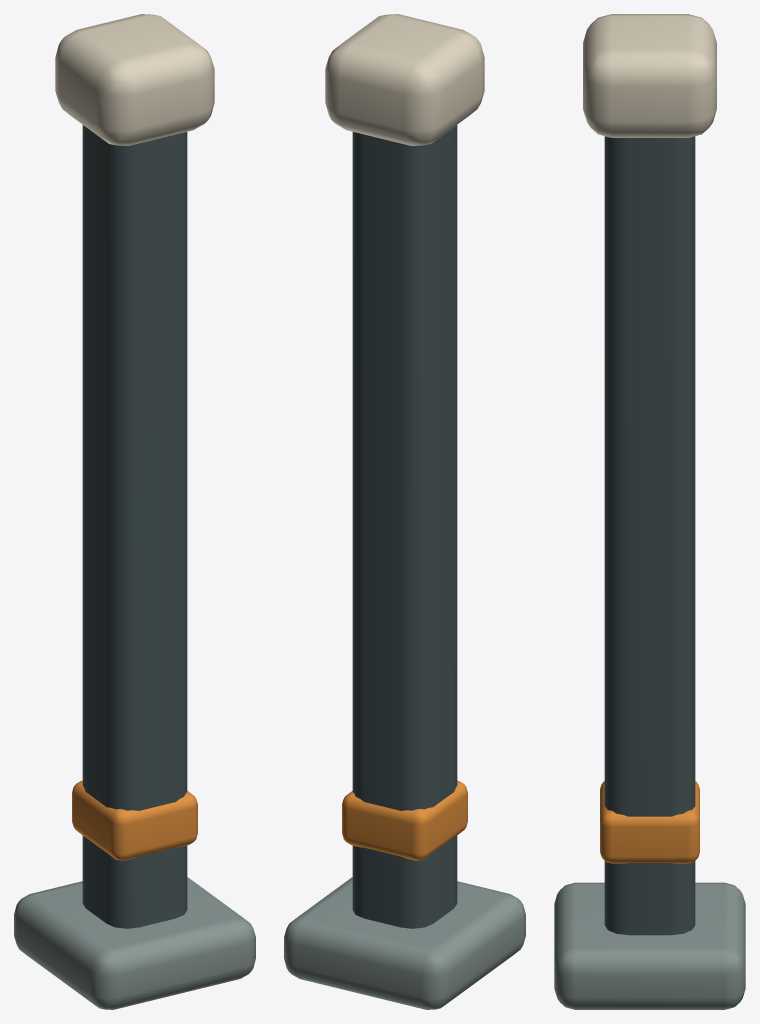
File: deck-post-105.glb
3 views of the same model, side by side, from view 1: azimuth 30°, elevation 25°; view 2: azimuth 150°, elevation 25°; view 3: azimuth 270°, elevation 25° (orthographic).
Visible parts, largest first — view 1: deck-post-105 / 06 • dark anodized frame, deck-post-105 / 05 • brushed titanium, deck-post-105 / 01 • warm porcelain paint, deck-post-105 / 03 • ochre enamel; view 2: deck-post-105 / 06 • dark anodized frame, deck-post-105 / 05 • brushed titanium, deck-post-105 / 01 • warm porcelain paint, deck-post-105 / 03 • ochre enamel; view 3: deck-post-105 / 06 • dark anodized frame, deck-post-105 / 05 • brushed titanium, deck-post-105 / 01 • warm porcelain paint, deck-post-105 / 03 • ochre enamel.
Part boxes in pixels (x1=…): deck-post-105 / 06 • dark anodized frame: x1=82, y1=125, x2=187, y2=928; deck-post-105 / 05 • brushed titanium: x1=14, y1=877, x2=255, y2=1009; deck-post-105 / 01 • warm porcelain paint: x1=55, y1=14, x2=214, y2=145; deck-post-105 / 03 • ochre enamel: x1=72, y1=780, x2=197, y2=860; deck-post-105 / 06 • dark anodized frame: x1=352, y1=125, x2=457, y2=928; deck-post-105 / 05 • brushed titanium: x1=284, y1=877, x2=525, y2=1009; deck-post-105 / 01 • warm porcelain paint: x1=325, y1=14, x2=484, y2=145; deck-post-105 / 03 • ochre enamel: x1=342, y1=780, x2=467, y2=860; deck-post-105 / 06 • dark anodized frame: x1=604, y1=136, x2=695, y2=935; deck-post-105 / 05 • brushed titanium: x1=554, y1=882, x2=745, y2=1009; deck-post-105 / 01 • warm porcelain paint: x1=583, y1=14, x2=716, y2=137; deck-post-105 / 03 • ochre enamel: x1=600, y1=781, x2=699, y2=863.
Size of the model in its own units: 0.2 by 1.09 by 0.2.
